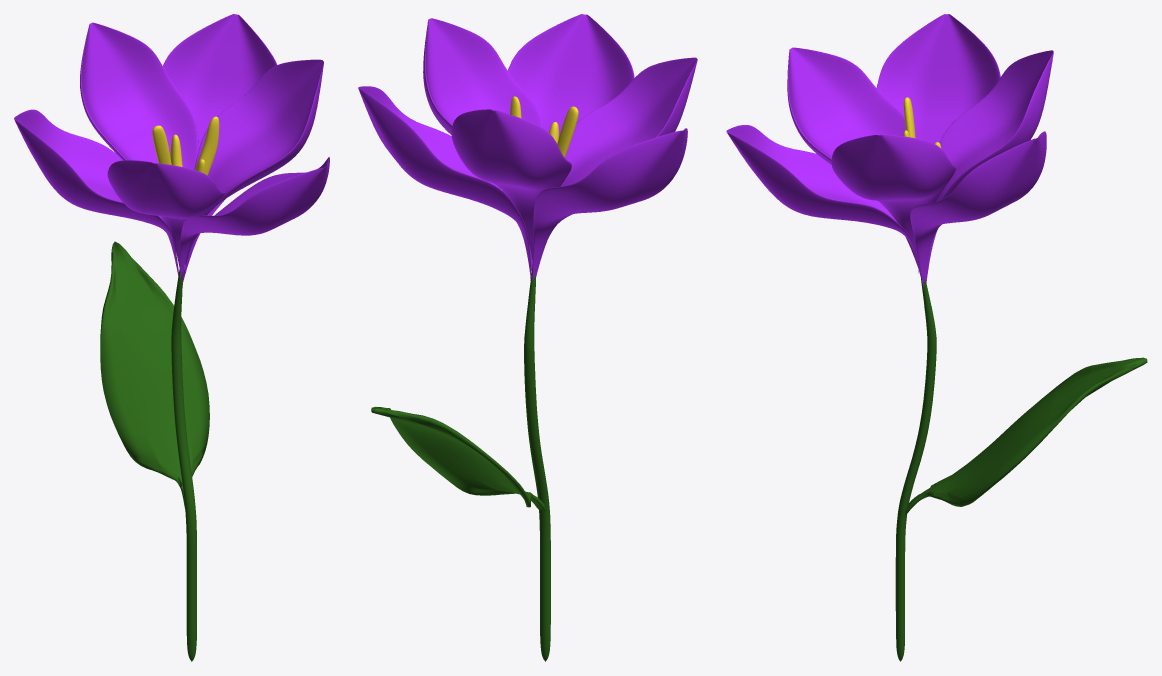
3 renders of one model, left to right at view 1: azimuth 30°, elevation 25°; view 2: azimuth 150°, elevation 25°; view 3: azimuth 270°, elevation 25°, orthographic. The views are drawn at different scales.
Visible parts, largest first — view 1: f01; view 2: f01; view 3: f01.
Boxes of the visible parts, x1=… form: f01: x1=14, y1=14, x2=329, y2=661; f01: x1=358, y1=14, x2=697, y2=661; f01: x1=726, y1=14, x2=1147, y2=661.
Size of the model in its own units: 0.392 by 0.8001 by 0.5105.
3 materials, 1 textured.
